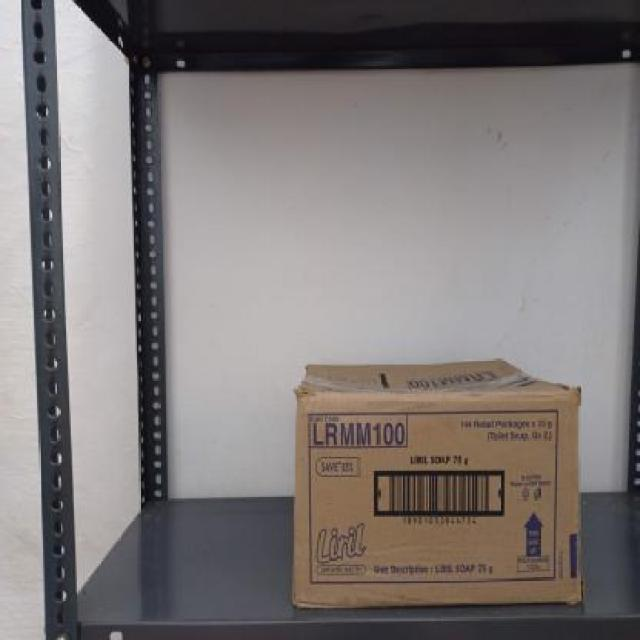box: (294, 390, 582, 601)
